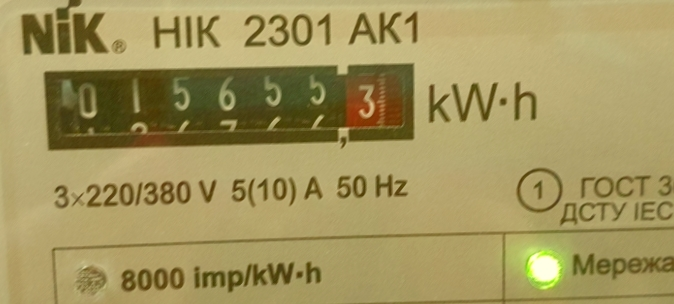0: (74, 77, 101, 119)
1: (126, 75, 146, 114)
3: (356, 81, 377, 117)
5: (168, 74, 193, 110), (261, 73, 285, 106), (308, 72, 328, 105)
6: (215, 74, 239, 110)
screen: (30, 42, 431, 165)
